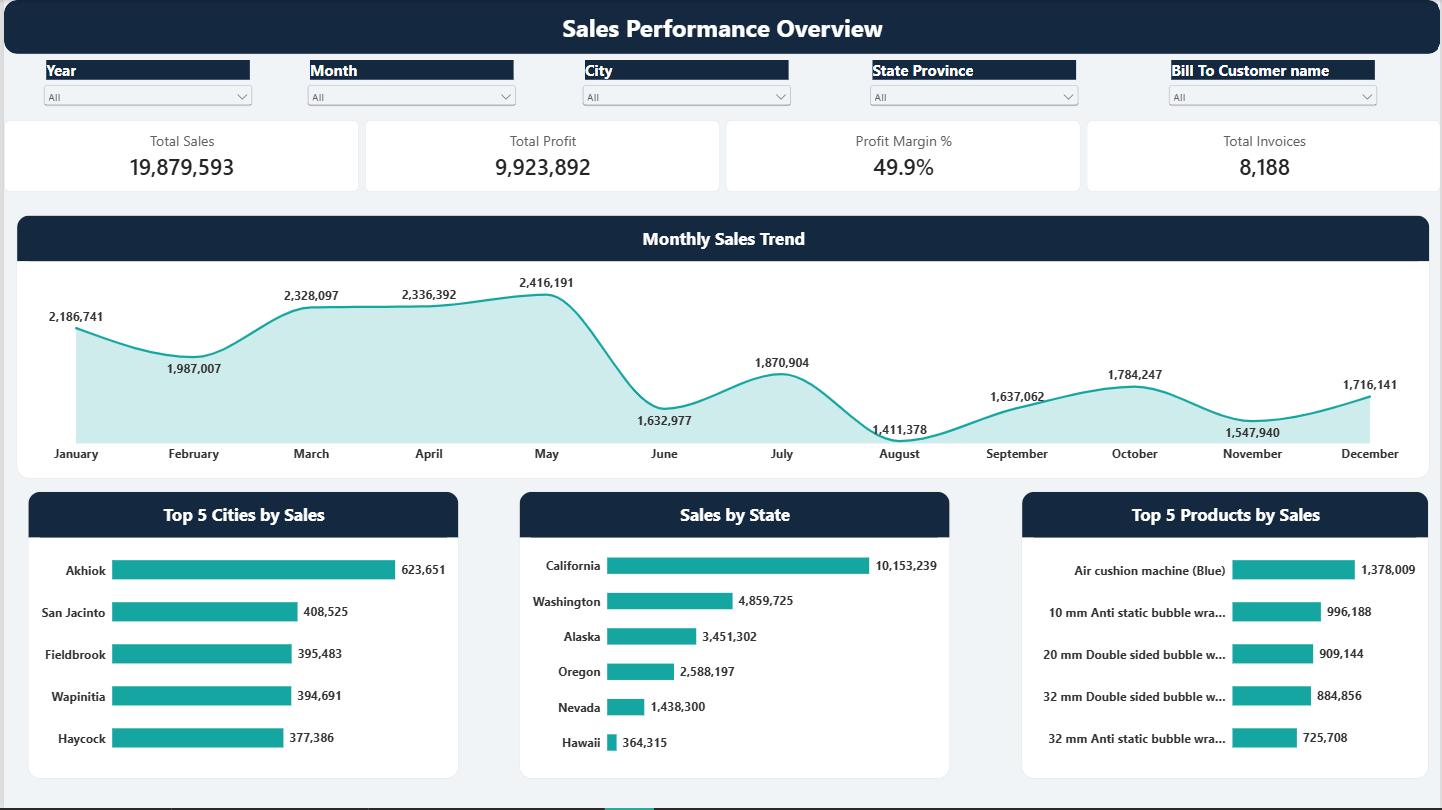

This screenshot's page, from the dashboard's own definition file:
{"tool":"powerbi","page":{"name":"Executive Overview","canvas":[1920,1080],"ordinal":0},"visuals":[{"type":"cardVisual","fields":{"Data":["DAX.Total Sales","DAX.Total Profit","DAX.Profit Margin %","DAX.Total Invoices"]},"box":[0,160,1920,96],"z":0},{"type":"barChart","title":"Top 5 Products by Sales","fields":{"Category":["Dim-StockItem.Stock Item"],"Y":["DAX.Total Sales after Tax"]},"box":[1360,656,544,384],"z":1000},{"type":"barChart","title":"Top 5 Cities by Sales","fields":{"Category":["Dim-City.City"],"Y":["DAX.Total Sales after Tax"]},"box":[32,656,576,384],"z":2000},{"type":"shape","box":[0,0,1920,72],"z":3000},{"type":"lineChart","title":"Monthly Sales Trend","fields":{"Category":["Dim-Date.Date.Variation.Date Hierarchy.Month"],"Y":["DAX.Total Sales after Tax"]},"box":[16,288,1888,352],"z":4000},{"type":"barChart","title":"Sales by State","fields":{"Category":["Dim-City.State Province"],"Y":["DAX.Total Sales after Tax"]},"box":[688,656,576,384],"z":5000},{"type":"slicer","fields":{"Values":["Dim-Date.Date.Variation.Date Hierarchy.Year"]},"box":[48,80,288,64],"z":6000},{"type":"slicer","fields":{"Values":["Dim-Date.Date.Variation.Date Hierarchy.Month"]},"box":[400,80,288,64],"z":7000},{"type":"slicer","fields":{"Values":["Dim-City.City"]},"box":[768,80,288,64],"z":8000},{"type":"slicer","fields":{"Values":["Dim-City.State Province"]},"box":[1152,80,288,64],"z":9000},{"type":"slicer","fields":{"Values":["Dim-Customer.Bill To Customer name"]},"box":[1552,80,288,64],"z":10000}]}

Visuals, with their boxes in screenshot pixels (x1, y1, x2, y2), scaled from the page's 1920x1080 canvas onto the 1442x810 screenshot:
cardVisual - DAX.Total Sales x DAX.Total Profit: x1=0, y1=120, x2=1441, y2=192
"Top 5 Products by Sales" barChart: x1=1021, y1=492, x2=1430, y2=780
"Top 5 Cities by Sales" barChart: x1=24, y1=492, x2=457, y2=780
shape: x1=0, y1=0, x2=1441, y2=54
"Monthly Sales Trend" lineChart: x1=12, y1=216, x2=1430, y2=480
"Sales by State" barChart: x1=517, y1=492, x2=949, y2=780
slicer - Dim-Date.Date.Variation.Date Hierarchy.Year: x1=36, y1=60, x2=252, y2=108
slicer - Dim-Date.Date.Variation.Date Hierarchy.Month: x1=300, y1=60, x2=517, y2=108
slicer - Dim-City.City: x1=577, y1=60, x2=793, y2=108
slicer - Dim-City.State Province: x1=865, y1=60, x2=1082, y2=108
slicer - Dim-Customer.Bill To Customer name: x1=1166, y1=60, x2=1382, y2=108
